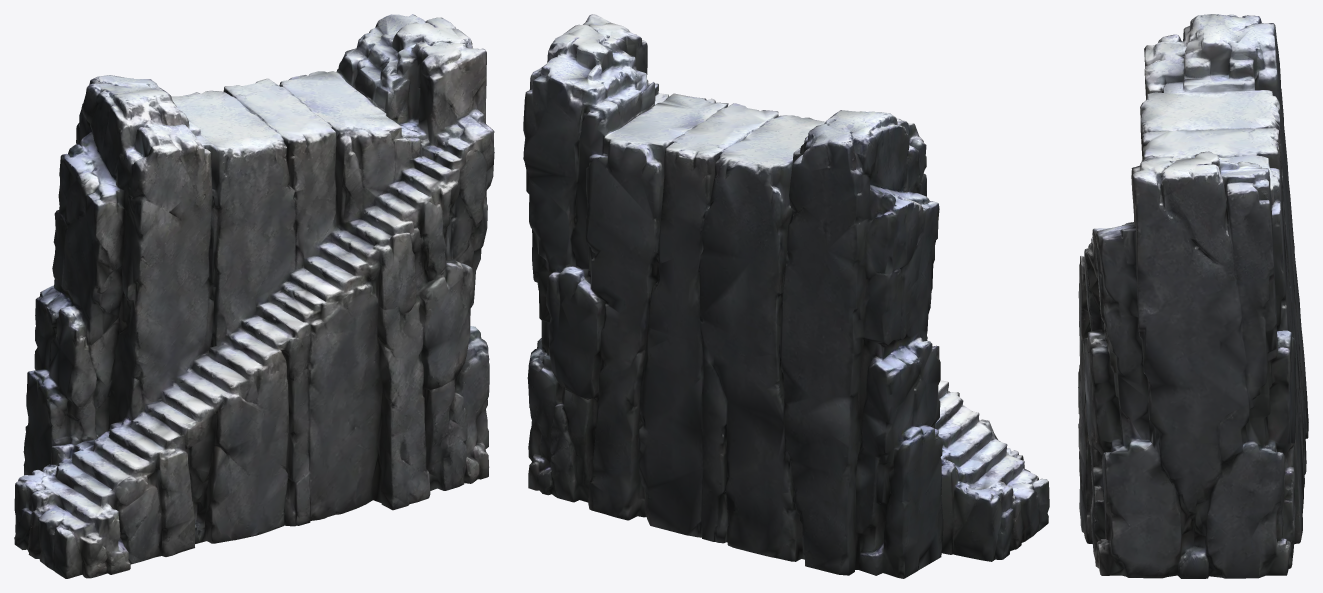
File: escalera_piedra.glb
The picture shows the model from 3 angles, left to right: view 1: azimuth 30°, elevation 25°; view 2: azimuth 150°, elevation 25°; view 3: azimuth 270°, elevation 25°; orthographic projection. The views are drawn at different scales.
Parts seen in each view (by area): view 1: tripo_node_691e3ac3-dff3-4d51-b999-c14e2aeebc2f; view 2: tripo_node_691e3ac3-dff3-4d51-b999-c14e2aeebc2f; view 3: tripo_node_691e3ac3-dff3-4d51-b999-c14e2aeebc2f.
Boxes of the visible parts, <box> form: tripo_node_691e3ac3-dff3-4d51-b999-c14e2aeebc2f: <box>14,14,494,578</box>; tripo_node_691e3ac3-dff3-4d51-b999-c14e2aeebc2f: <box>523,14,1049,578</box>; tripo_node_691e3ac3-dff3-4d51-b999-c14e2aeebc2f: <box>1078,14,1308,578</box>.
Bounding box in the file's own units: 0.9993 × 0.8985 × 0.4577.
1 material, 1 textured.
